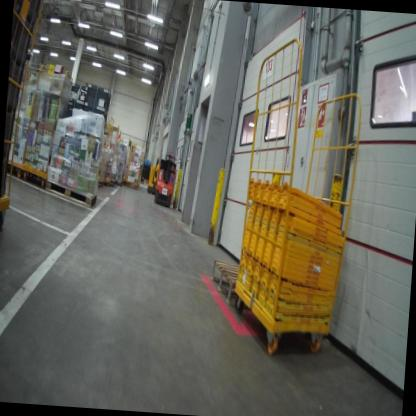pallet: (206, 255, 274, 313), (44, 175, 101, 208), (123, 180, 141, 190)
pallet_truck: (150, 146, 182, 210), (145, 153, 168, 197)
